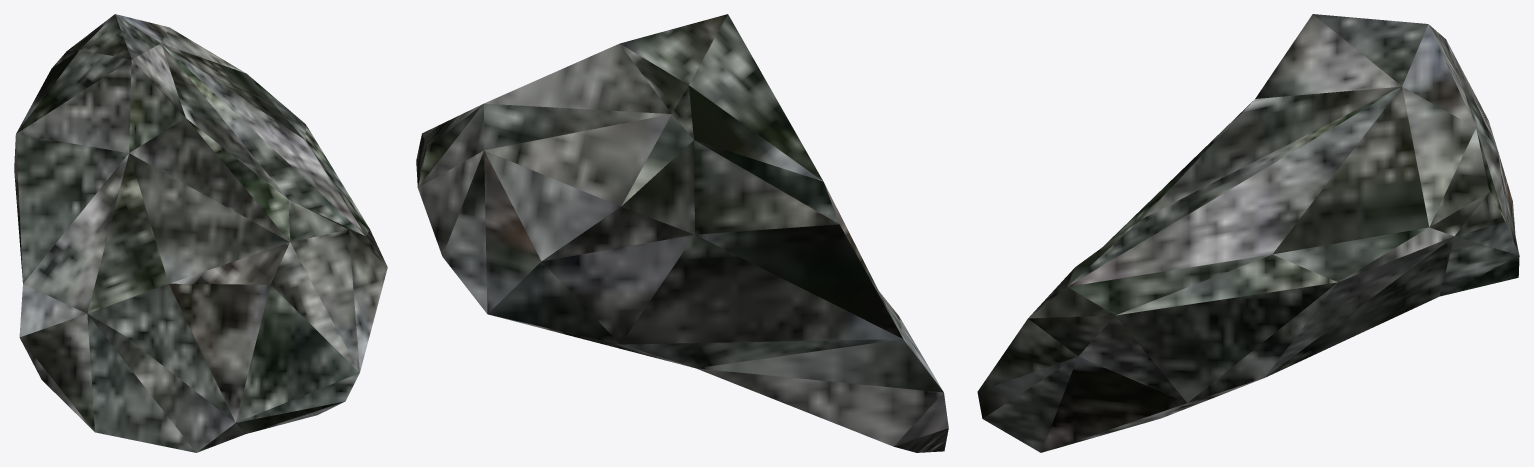
The model's file is rock-irregular.gltf.
3 views of the same model, side by side, from view 1: azimuth 30°, elevation 25°; view 2: azimuth 150°, elevation 25°; view 3: azimuth 270°, elevation 25° (orthographic). The views are drawn at different scales.
Visible parts, largest first — view 1: Object.034; view 2: Object.034; view 3: Object.034.
Part boxes in pixels (x1,y1,x2,y2): Object.034: (14,14,387,452); Object.034: (416,14,948,452); Object.034: (977,14,1519,452).
Size of the model in its own units: 0.4972 by 0.4925 by 0.5756.
Materials: 1 (1 with a texture image).
